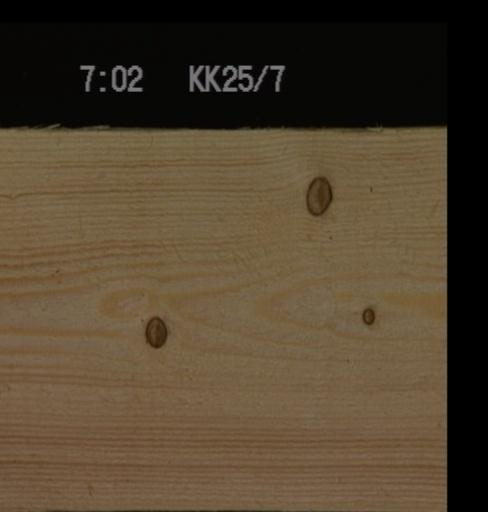dry_knot: (302, 172, 333, 216), (142, 313, 168, 349), (359, 303, 376, 325)
